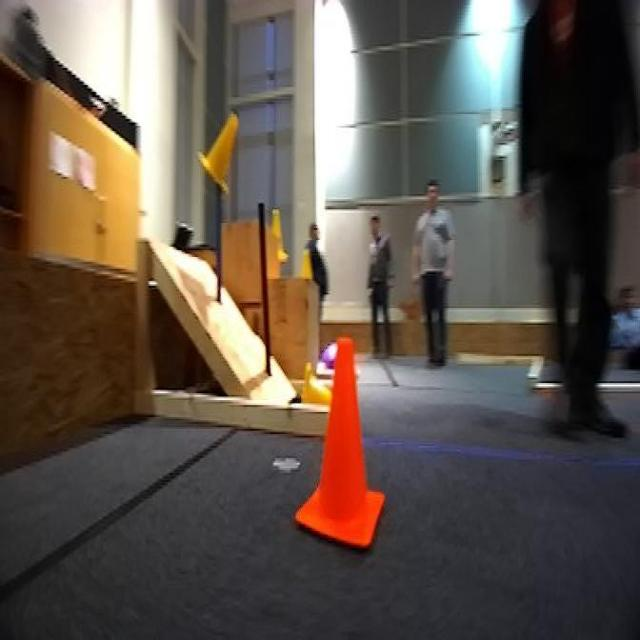frc_cone: (198, 112, 242, 198), (297, 363, 331, 400), (273, 204, 288, 259), (304, 238, 320, 281)
frc_cube: (618, 342, 640, 378), (323, 340, 341, 374)
